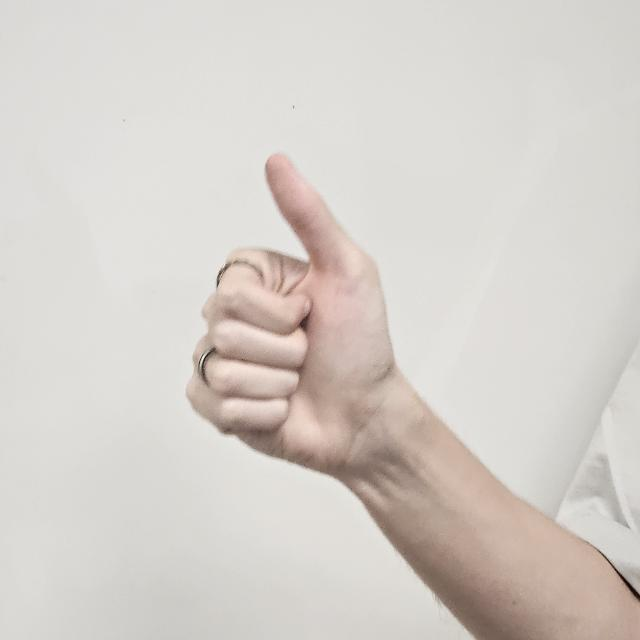Start: (190, 150, 418, 478)
